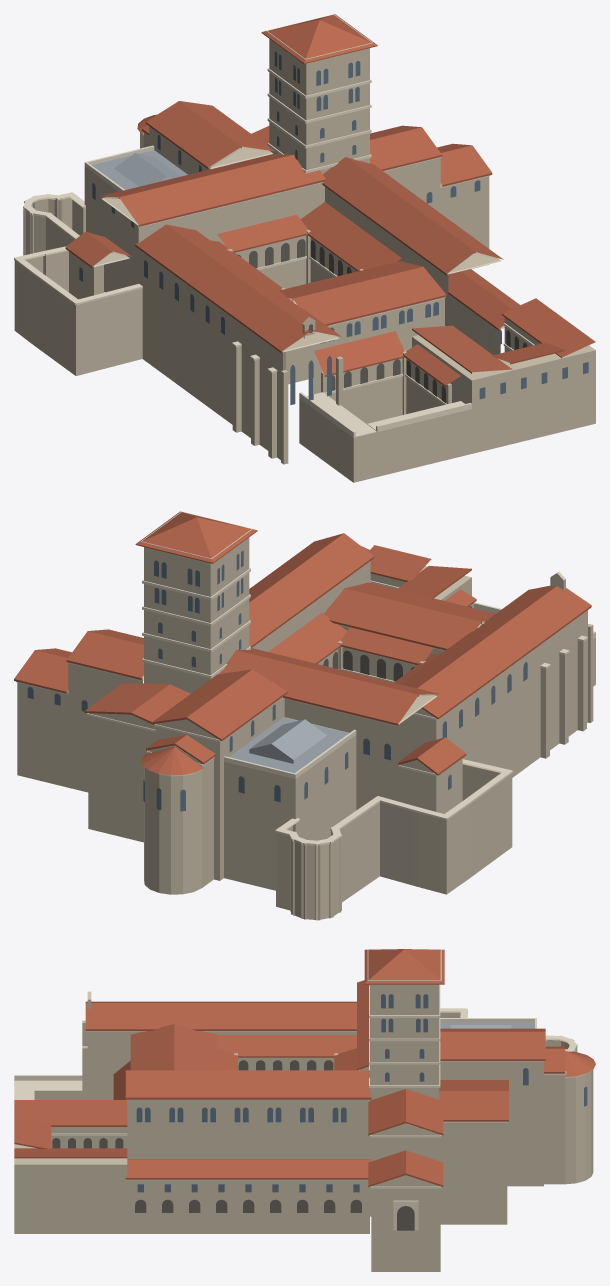
The model's file is nyc-cloisters.glb.
3 renders of one model, top to bottom at view 1: azimuth 30°, elevation 25°; view 2: azimuth 150°, elevation 25°; view 3: azimuth 270°, elevation 25°, orthographic. The views are drawn at different scales.
Parts seen in each view (by area): view 1: The Met Cloisters; view 2: The Met Cloisters; view 3: The Met Cloisters.
Part boxes in pixels (box(x1,y1,x2,y2)): The Met Cloisters: box(14, 14, 595, 482); The Met Cloisters: box(14, 511, 595, 920); The Met Cloisters: box(14, 949, 595, 1271).
Bounding box in the file's own units: 73.6 × 44.3 × 92.31.
